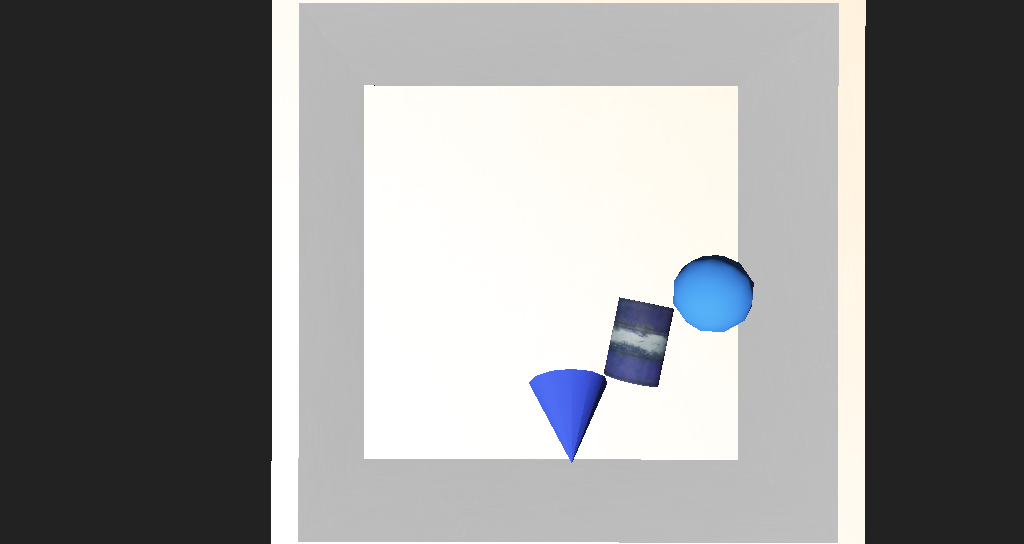cone: (549, 284, 610, 336)
cylinder: (485, 322, 552, 394)
sphere: (600, 260, 667, 303)
